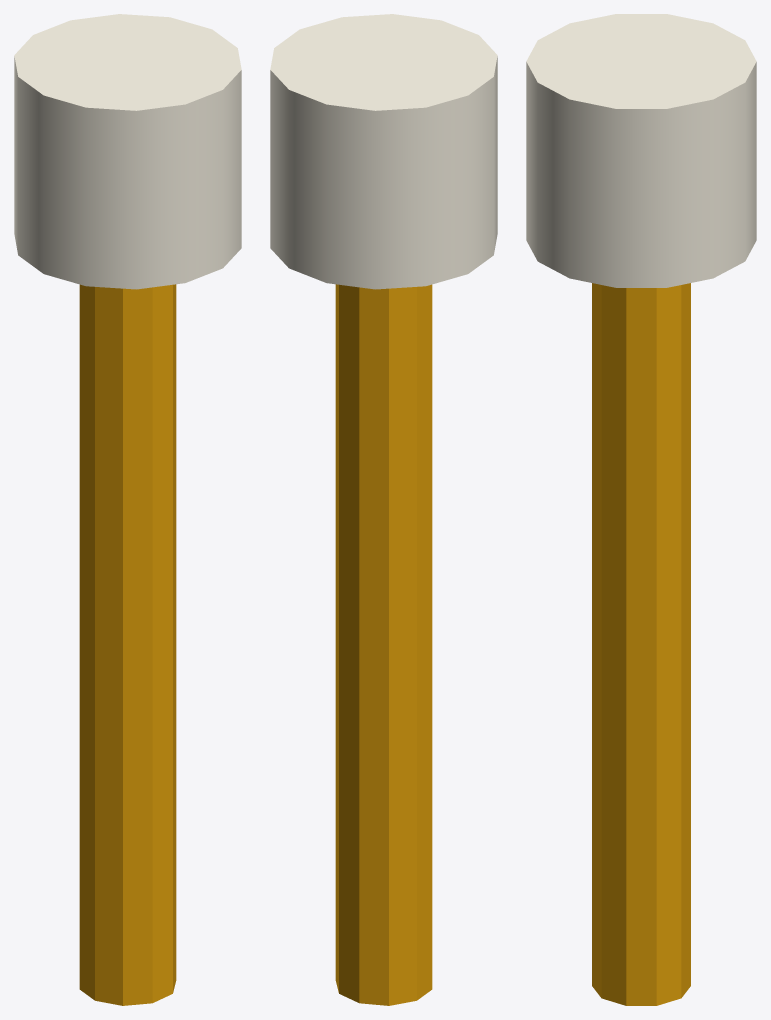
The model's file is airport.airside.edge_light.glb.
3 views of the same model, side by side, from view 1: azimuth 30°, elevation 25°; view 2: azimuth 150°, elevation 25°; view 3: azimuth 270°, elevation 25° (orthographic).
Parts seen in each view (by area): view 1: main__plant_yellow, main__light_emitter; view 2: main__plant_yellow, main__light_emitter; view 3: main__plant_yellow, main__light_emitter.
Part boxes in pixels (x1,y1,x2,y2): main__plant_yellow: [79, 284, 176, 1005]; main__light_emitter: [14, 14, 241, 289]; main__plant_yellow: [335, 284, 432, 1005]; main__light_emitter: [270, 14, 497, 289]; main__plant_yellow: [592, 283, 690, 1005]; main__light_emitter: [526, 14, 756, 287].
Bounding box in the file's own units: 0.1365 × 0.62 × 0.14.
